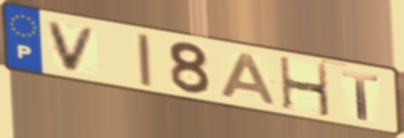8: (166, 40, 214, 96)
A: (217, 50, 279, 107)
H: (276, 55, 333, 120)
I: (134, 31, 155, 89)
T: (340, 68, 382, 123)
V: (45, 20, 101, 75)
